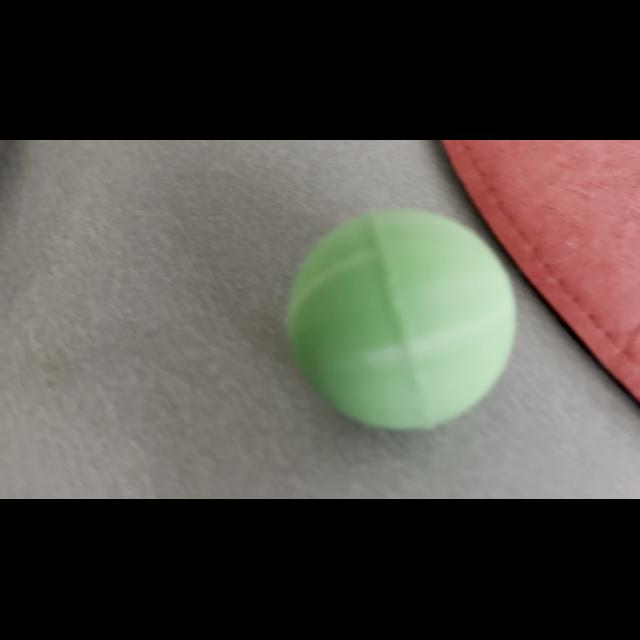objects: (280, 200, 524, 442)
